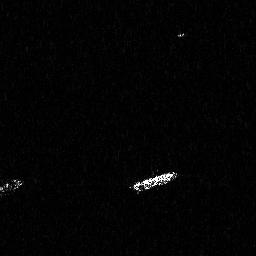ship: (127, 170, 180, 195)
